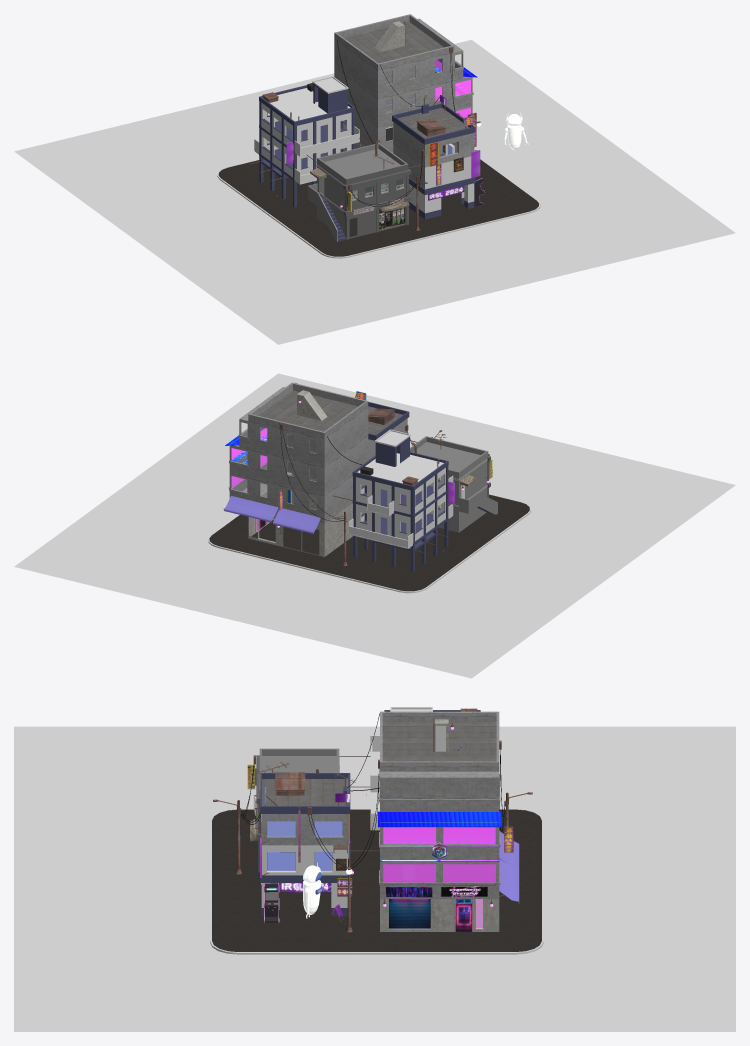
The picture shows the model from 3 angles, top to bottom: view 1: azimuth 30°, elevation 25°; view 2: azimuth 150°, elevation 25°; view 3: azimuth 270°, elevation 25°; orthographic projection. The views are drawn at different scales.
Visible parts, largest first — view 1: Plane.001, Object_39.001, bawah.001, Object_13, Object_14, Object_46, Object_42, Object_10, Object_11, Object_25, Object_16, Object_45 (+3 smaller); view 2: Plane.001, bawah.001, Object_39, Object_13, Object_14, Object_39.001, Object_46, Object_45, Object_10, Object_38, Object_25; view 3: Plane.001, bawah.001, Object_39, Object_10, Object_13, Object_11, Object_25, Object_45, Object_46, Cube, Cube.009, Object_38 (+12 smaller).
Part boxes in pixels (x1=…): Plane.001: x1=14, y1=40, x2=735, y2=344; Object_39.001: x1=334, y1=15, x2=474, y2=188; bawah.001: x1=218, y1=127, x2=538, y2=256; Object_13: x1=217, y1=76, x2=540, y2=258; Object_14: x1=259, y1=83, x2=474, y2=241; Object_46: x1=307, y1=143, x2=407, y2=241; Object_42: x1=343, y1=164, x2=411, y2=239; Object_10: x1=344, y1=22, x2=469, y2=138; Object_11: x1=392, y1=103, x2=475, y2=194; Object_25: x1=249, y1=21, x2=480, y2=230; Object_16: x1=347, y1=178, x2=404, y2=229; Object_45: x1=316, y1=21, x2=451, y2=212; Plane.001: x1=14, y1=373, x2=735, y2=678; bawah.001: x1=209, y1=494, x2=529, y2=591; Object_39: x1=229, y1=382, x2=367, y2=523; Object_13: x1=208, y1=429, x2=531, y2=593; Object_14: x1=352, y1=437, x2=493, y2=571; Object_39.001: x1=229, y1=384, x2=407, y2=523; Object_46: x1=410, y1=436, x2=497, y2=532; Object_45: x1=248, y1=390, x2=487, y2=556; Object_10: x1=258, y1=390, x2=402, y2=434; Object_38: x1=224, y1=496, x2=320, y2=533; Object_25: x1=223, y1=383, x2=489, y2=565; Plane.001: x1=14, y1=726, x2=735, y2=1031; bawah.001: x1=212, y1=809, x2=541, y2=951; Object_39: x1=261, y1=711, x2=500, y2=898; Object_10: x1=262, y1=722, x2=496, y2=805; Object_13: x1=210, y1=707, x2=543, y2=954; Object_11: x1=260, y1=773, x2=350, y2=882; Object_25: x1=213, y1=708, x2=532, y2=932; Object_45: x1=339, y1=719, x2=499, y2=931; Object_46: x1=259, y1=748, x2=339, y2=797; Cube: x1=378, y1=811, x2=501, y2=827; Cube.009: x1=389, y1=899, x2=430, y2=928; Object_38: x1=499, y1=831, x2=519, y2=903.
Bounding box in the file's own units: 96.82 × 29.12 × 96.82.
Materials: 70 (18 with a texture image).
